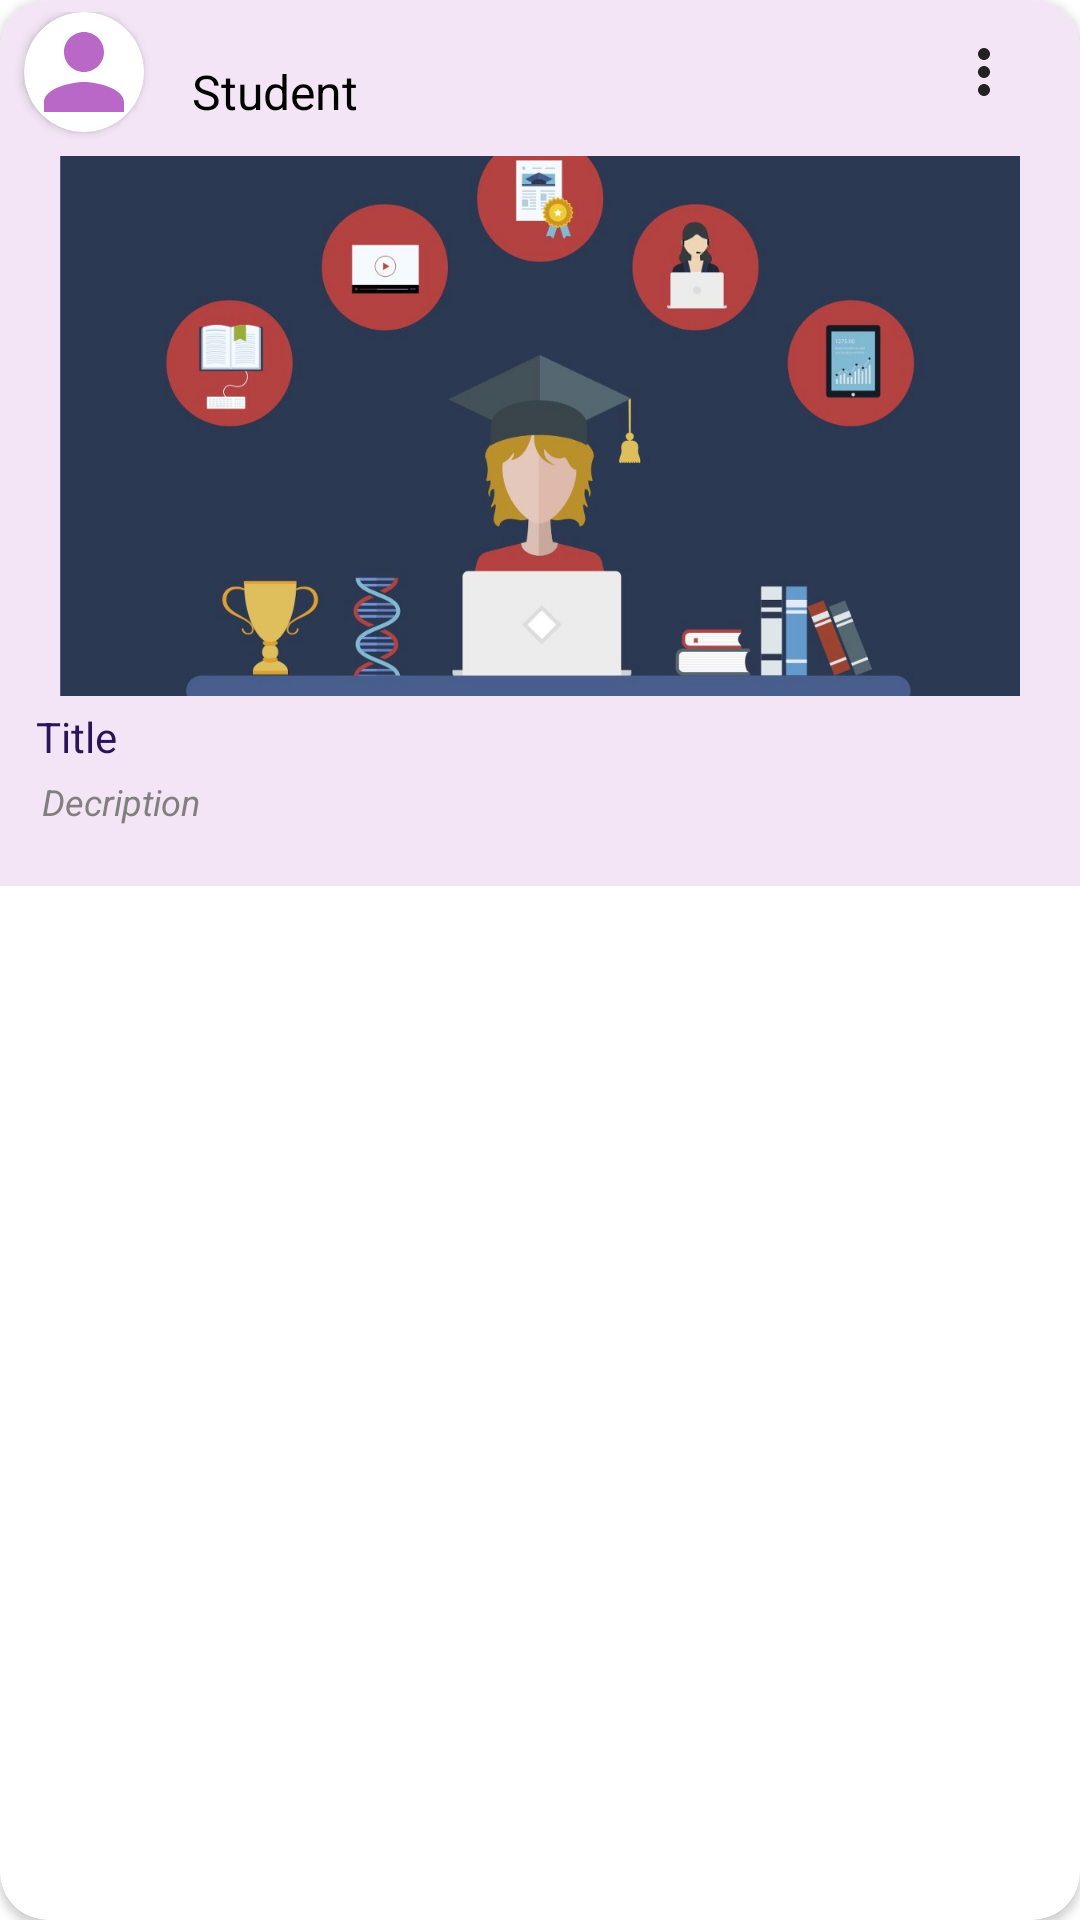

Icons on this 1080*1920 Android screen, each with its box as (x1, y1, x2, y2):
costum person: (24, 12, 144, 132)
more vert: (978, 48, 990, 96)
